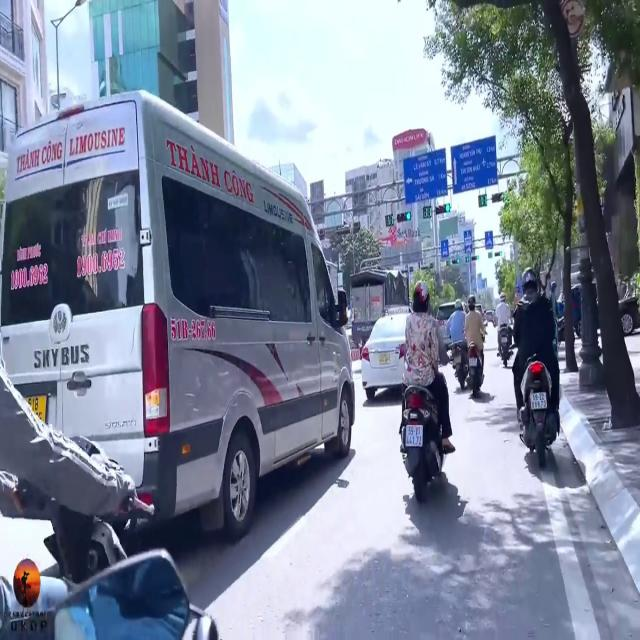bien_trang: (402, 419, 427, 451)
